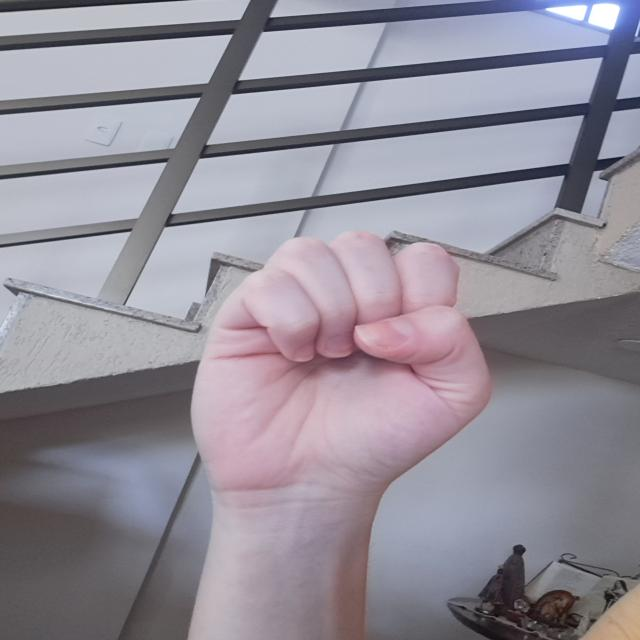S: (178, 227, 504, 498)
